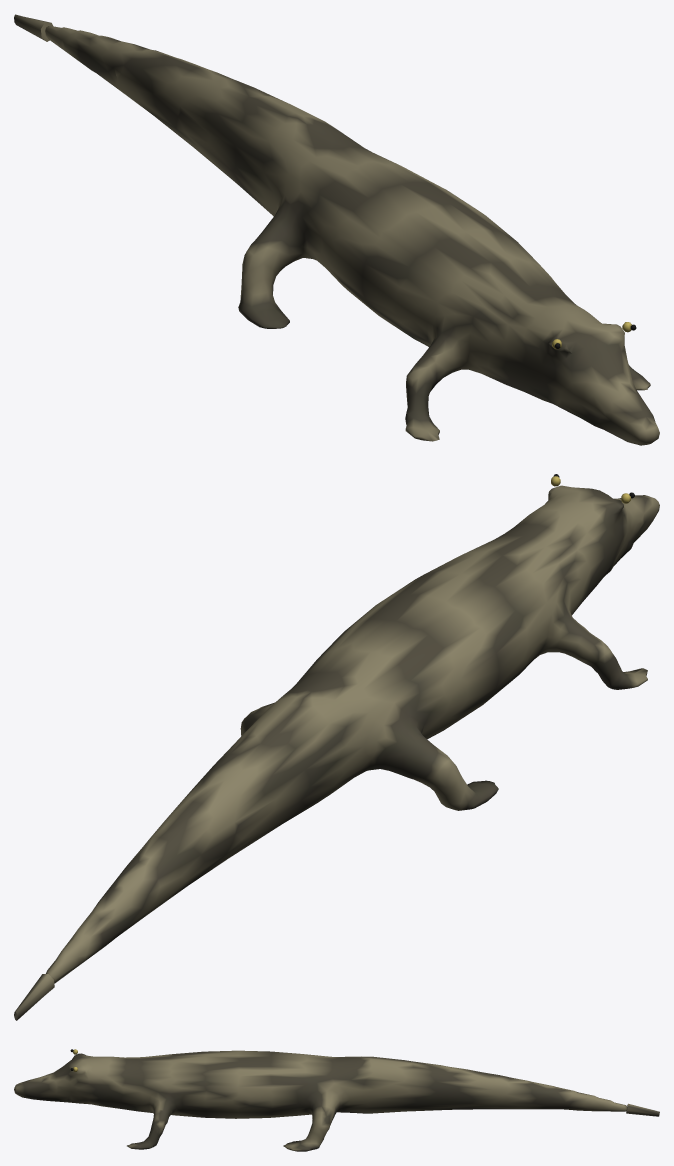
The model's file is waran.glb.
The picture shows the model from 3 angles, top to bottom: view 1: azimuth 30°, elevation 25°; view 2: azimuth 150°, elevation 25°; view 3: azimuth 270°, elevation 25°; orthographic projection. The views are drawn at different scales.
Parts seen in each view (by area): view 1: lack; view 2: lack; view 3: lack.
Boxes of the visible parts, left/top/right/bottom form: lack: left=14, top=14, right=659, bottom=445; lack: left=14, top=474, right=659, bottom=1020; lack: left=14, top=1049, right=659, bottom=1151.
Size of the model in its own units: 0.4388 by 0.2328 by 1.99.
